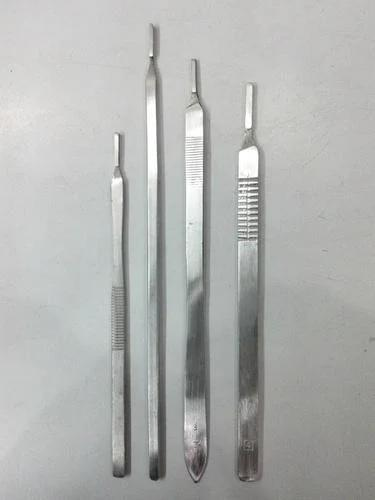Knife handle: (220, 71, 272, 483), (137, 16, 172, 480), (178, 52, 214, 482), (101, 128, 138, 485)
